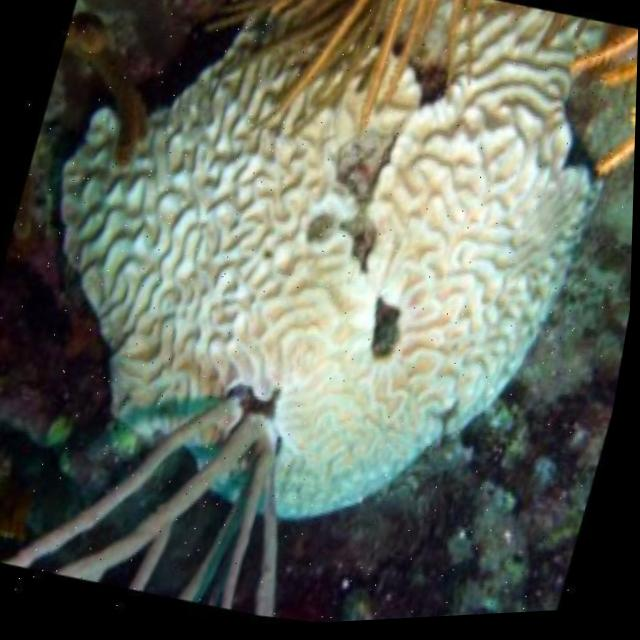Bleached Coral: (6, 0, 631, 560)
